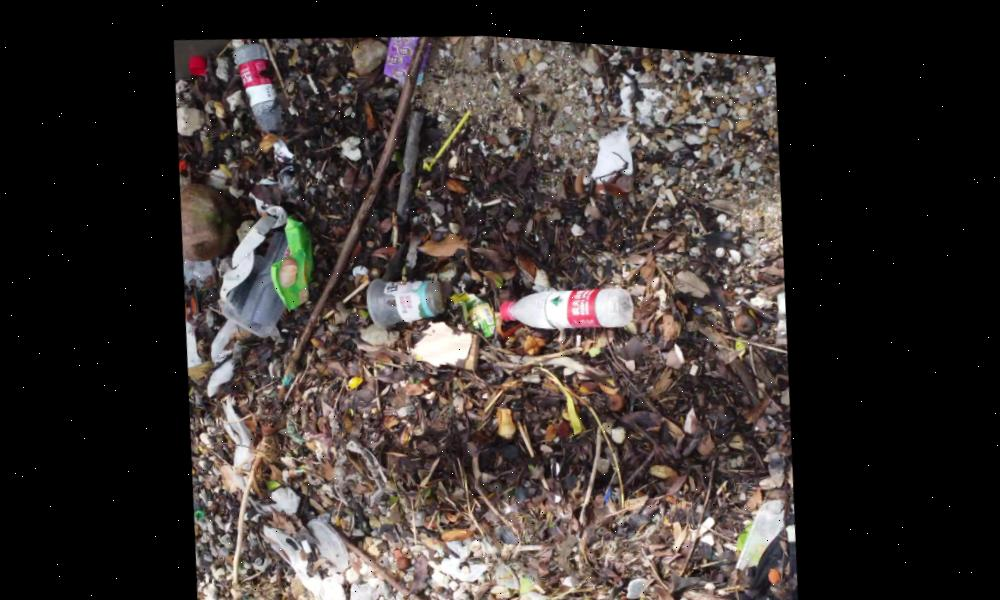plastic bag: (210, 193, 339, 346)
plastic bottle: (490, 258, 651, 339), (227, 31, 287, 145)
plastic container: (359, 255, 455, 327)
